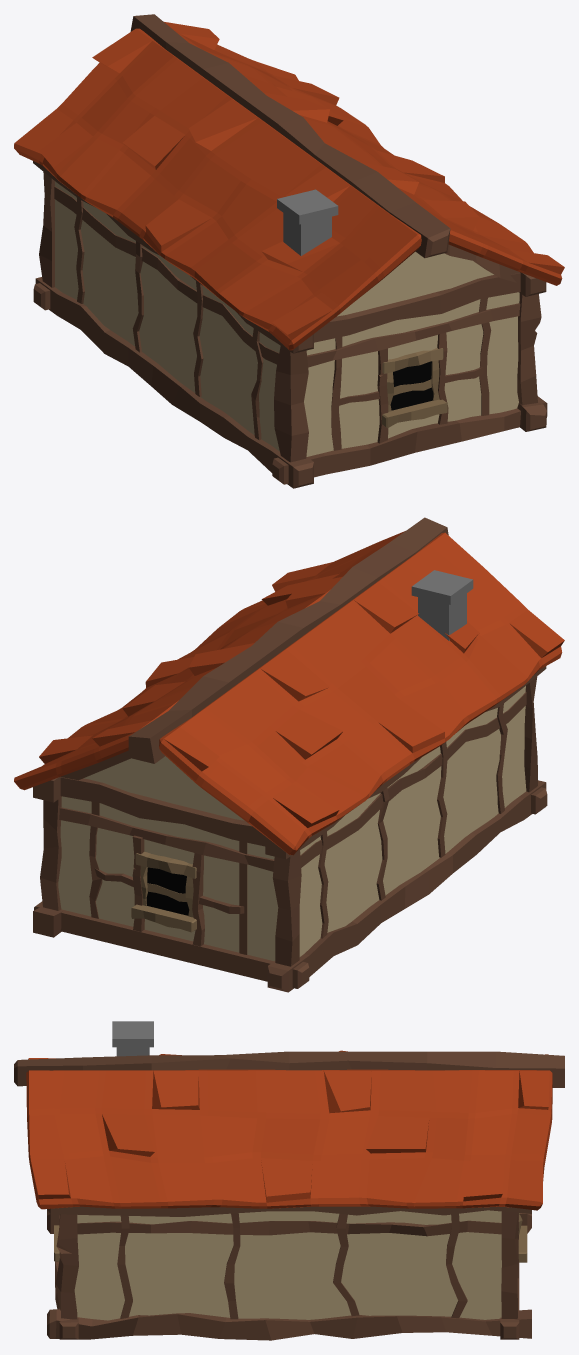
The model's file is House01_Floor01.fbx.
3 views of the same model, one above another, from view 1: azimuth 30°, elevation 25°; view 2: azimuth 150°, elevation 25°; view 3: azimuth 270°, elevation 25° (orthographic). The views are drawn at different scales.
Visible parts, largest first — view 1: House001_Floor01; view 2: House001_Floor01; view 3: House001_Floor01.
Part boxes in pixels (x1=…): House001_Floor01: x1=14, y1=14, x2=564, y2=488; House001_Floor01: x1=14, y1=517, x2=564, y2=992; House001_Floor01: x1=14, y1=1021, x2=564, y2=1340.
Size of the model in its own units: 1110 by 912 by 2000.
